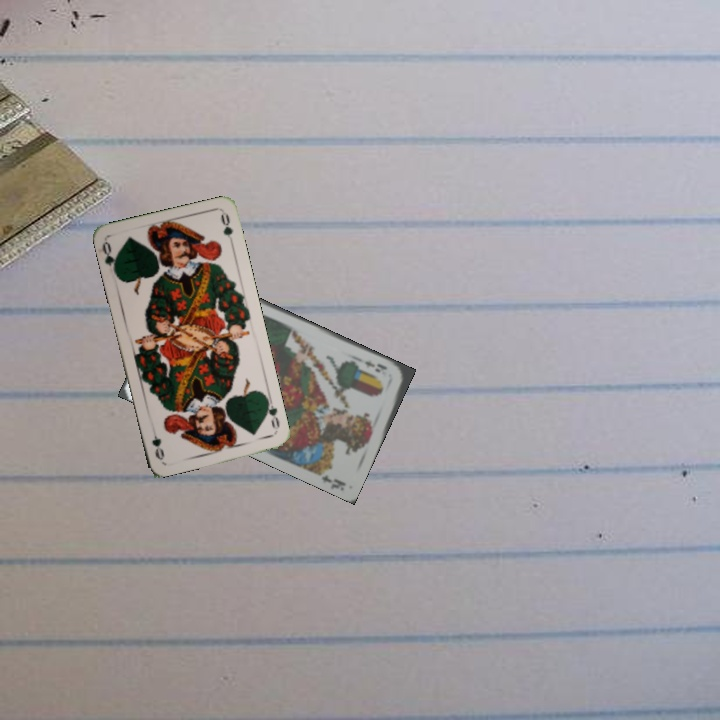EK: (361, 356, 389, 375)
GO: (98, 238, 120, 278), (261, 393, 282, 430)
